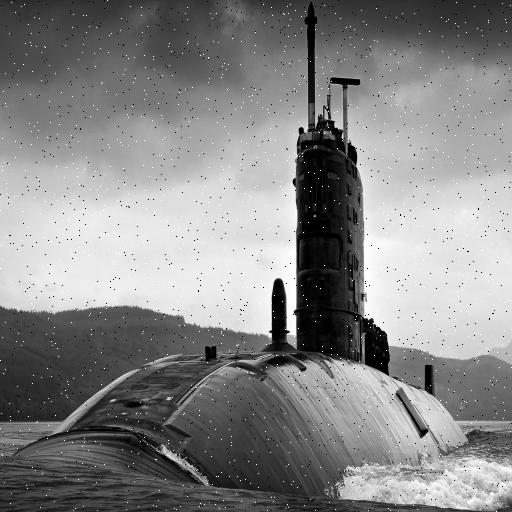submarine: (7, 1, 478, 512)
